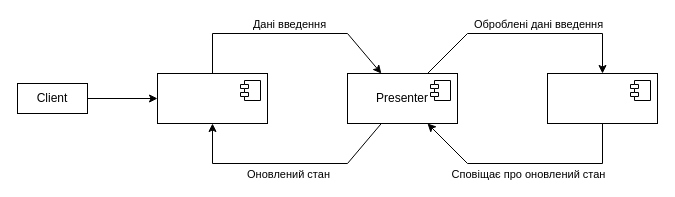
The diagram is 675 pixels wide and 197 high, and some of its shapes have lost their labels. Each missing label, with the centre of its shape:
"Model" goes at (602,98).
"View" goes at (212,98).
